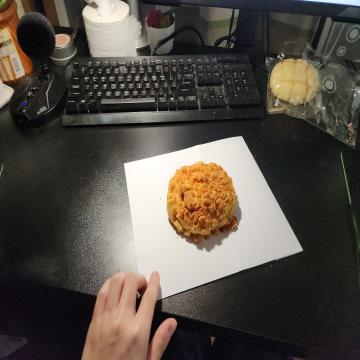soboru_bread: (166, 161, 240, 245)
